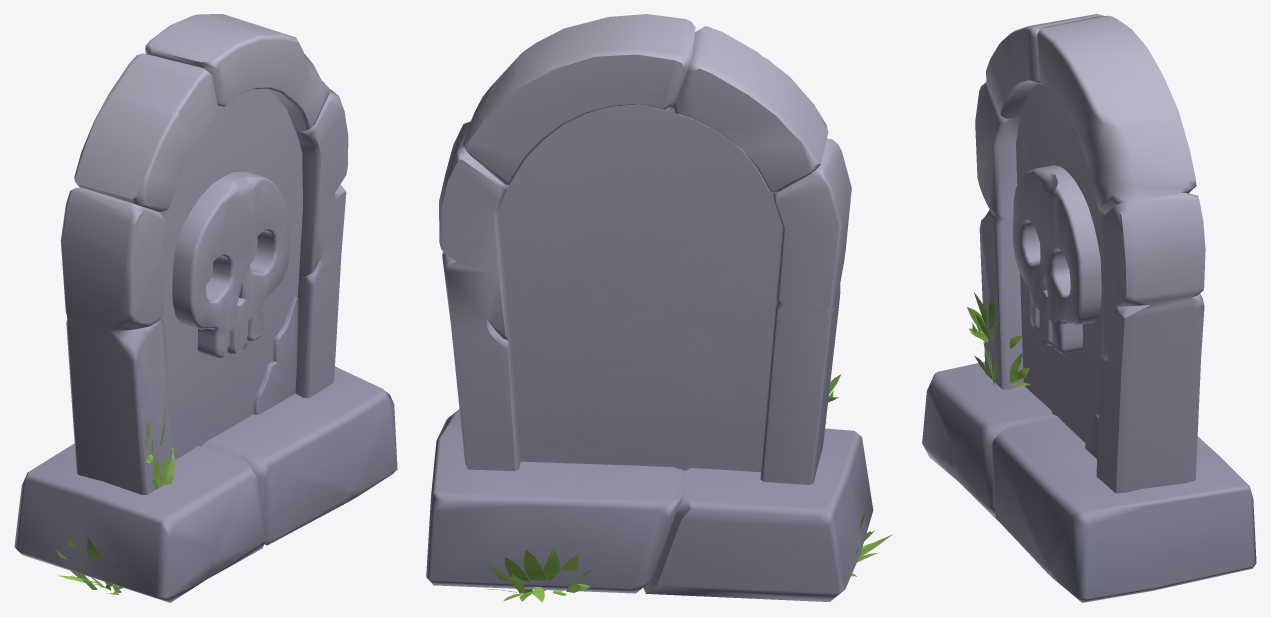
The model's file is tombstone_02.glb.
3 views of the same model, side by side, from view 1: azimuth 30°, elevation 25°; view 2: azimuth 150°, elevation 25°; view 3: azimuth 270°, elevation 25° (orthographic). The views are drawn at different scales.
Parts seen in each view (by area): view 1: WBA_Gravestone_Set_02; view 2: WBA_Gravestone_Set_02; view 3: WBA_Gravestone_Set_02.
Part boxes in pixels (left/top/right/bottom): WBA_Gravestone_Set_02: left=14, top=14, right=397, bottom=602; WBA_Gravestone_Set_02: left=426, top=14, right=892, bottom=602; WBA_Gravestone_Set_02: left=922, top=14, right=1256, bottom=602.
Size of the model in its own units: 0.4737 by 0.6042 by 0.3681.
1 material, 1 textured.
